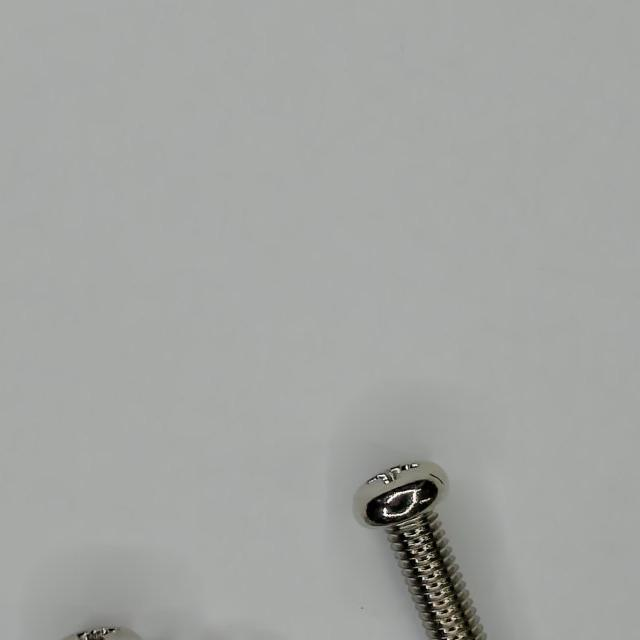Screw: (356, 464, 487, 640)
